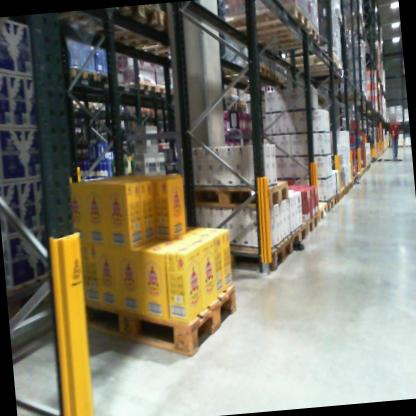pallet: (81, 267, 249, 367), (191, 171, 293, 220), (105, 4, 185, 58), (66, 5, 163, 49), (220, 7, 314, 51), (220, 230, 299, 278), (275, 46, 346, 83), (252, 23, 326, 54), (67, 62, 99, 89), (124, 78, 161, 99), (94, 68, 124, 92), (309, 200, 332, 226), (291, 221, 309, 249), (300, 211, 320, 232), (250, 60, 269, 82), (323, 197, 336, 211), (337, 185, 346, 200), (333, 191, 341, 204)
